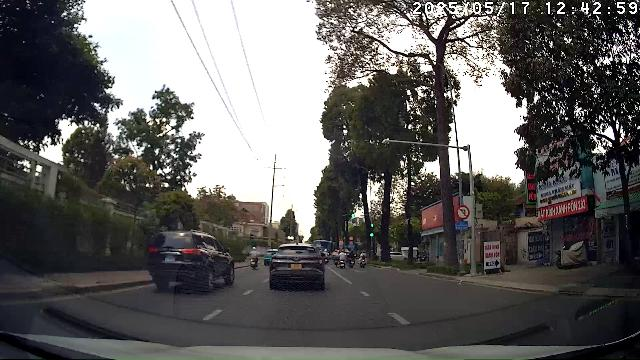123a-cam-re-trai: (456, 205, 470, 220)
